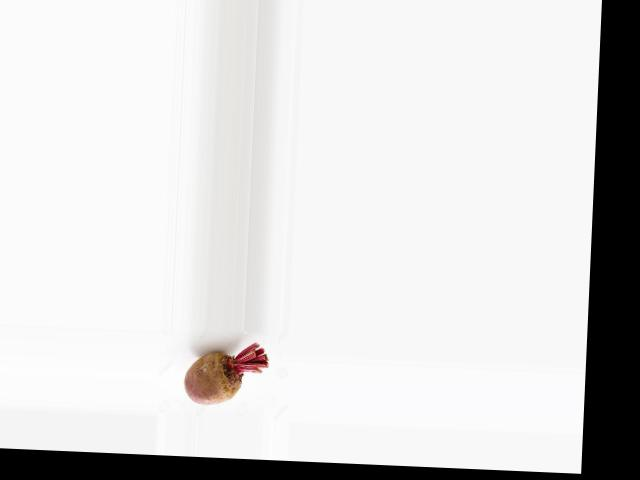beet: (182, 338, 268, 407)
